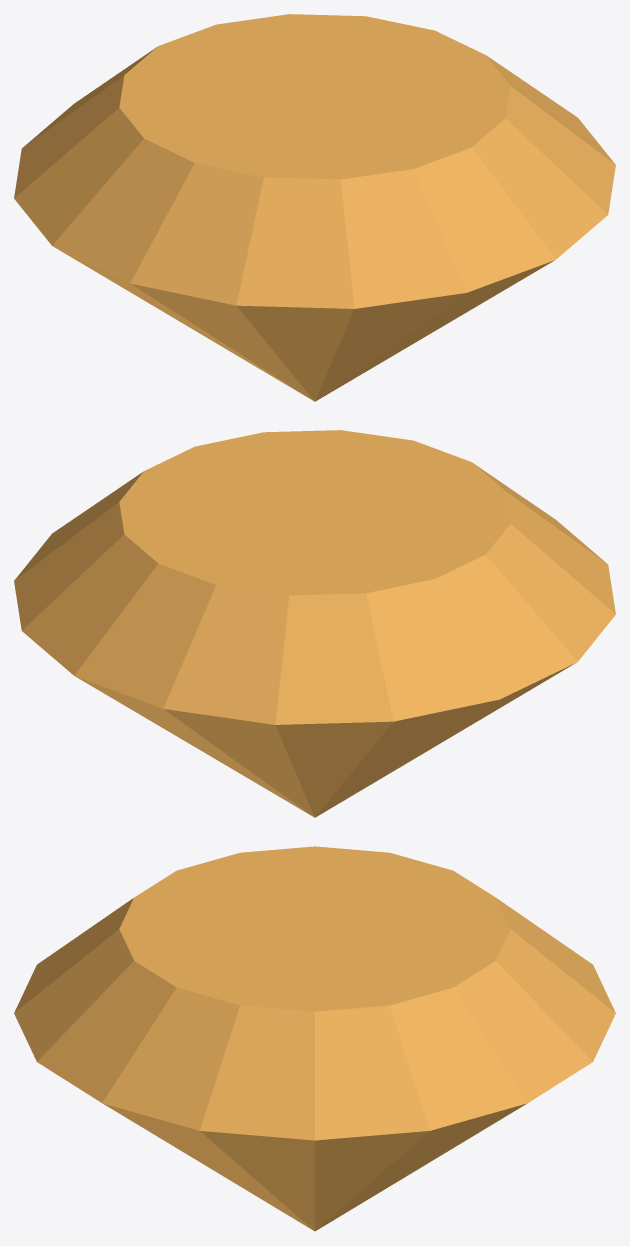
The model's file is Diamond_01.fbx.
The picture shows the model from 3 angles, top to bottom: view 1: azimuth 30°, elevation 25°; view 2: azimuth 150°, elevation 25°; view 3: azimuth 270°, elevation 25°; orthographic projection.
Visible parts, largest first — view 1: Diamond_01; view 2: Diamond_01; view 3: Diamond_01.
Part boxes in pixels (box(x1,y1,x2,y2)): Diamond_01: box(14, 14, 615, 401); Diamond_01: box(14, 430, 615, 817); Diamond_01: box(14, 846, 615, 1231).
Bounding box in the file's own units: 374 × 207 × 374.
